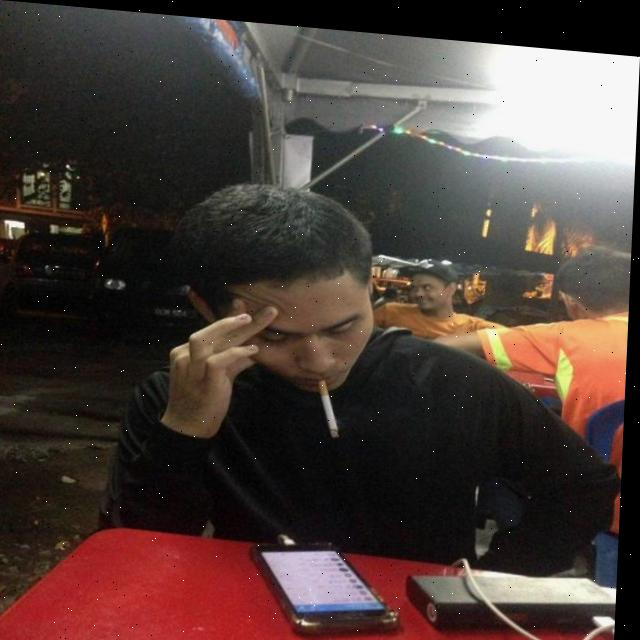cigarette: (319, 372, 345, 432)
